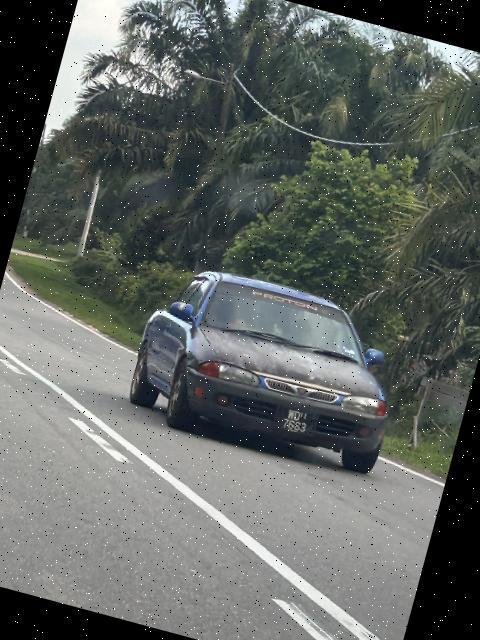License_Plate: (272, 402, 320, 444)
WD7683: (272, 402, 320, 444)
car: (116, 253, 416, 481)
